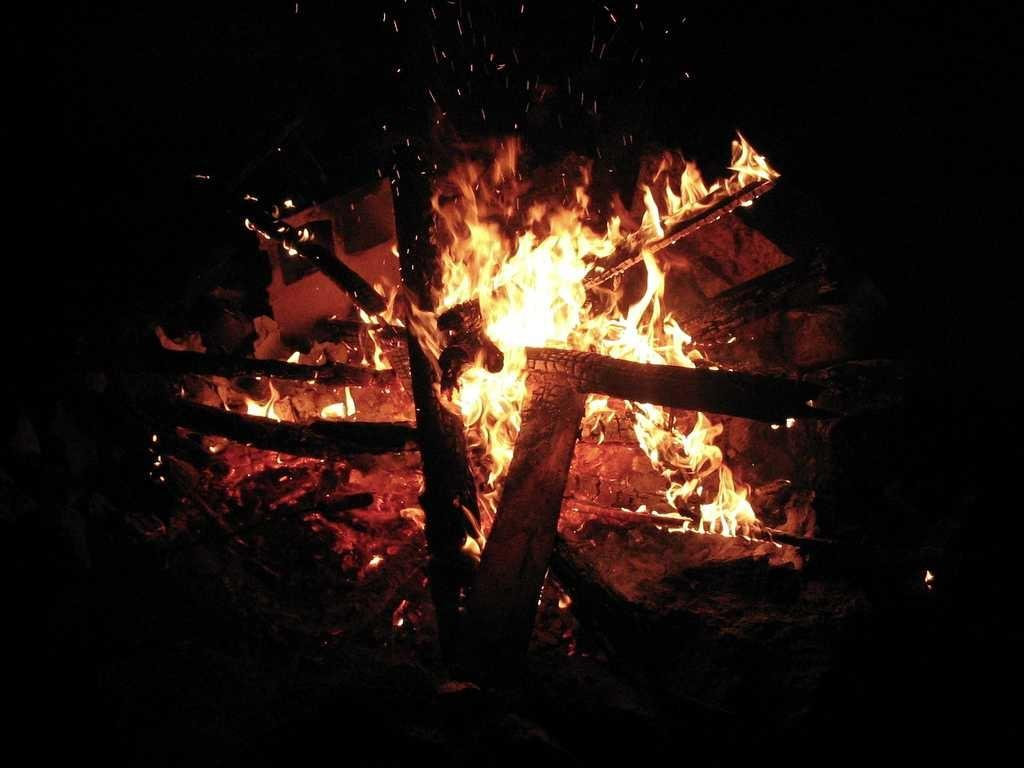fire: (339, 147, 774, 558)
